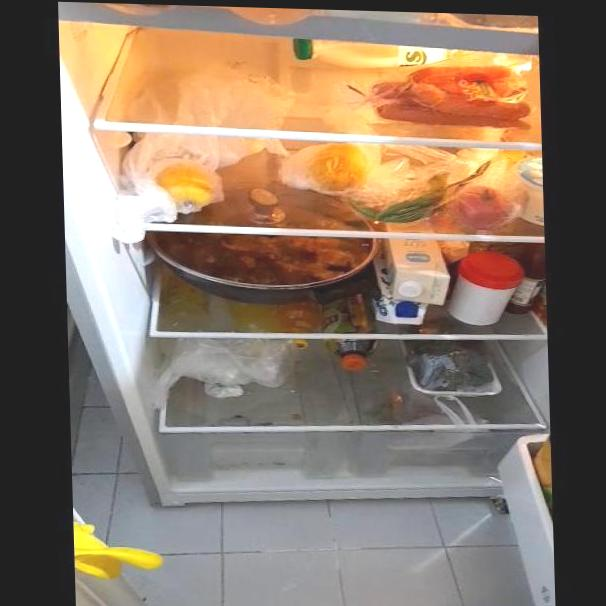broccoli: (402, 338, 499, 391)
carrot: (373, 64, 528, 124)
green chilies: (348, 193, 451, 220)
lemon: (310, 143, 372, 192), (157, 163, 216, 207)
milk: (377, 241, 445, 325), (292, 37, 449, 68)
tomato: (450, 184, 515, 228)
yoghurt: (514, 156, 547, 225)
